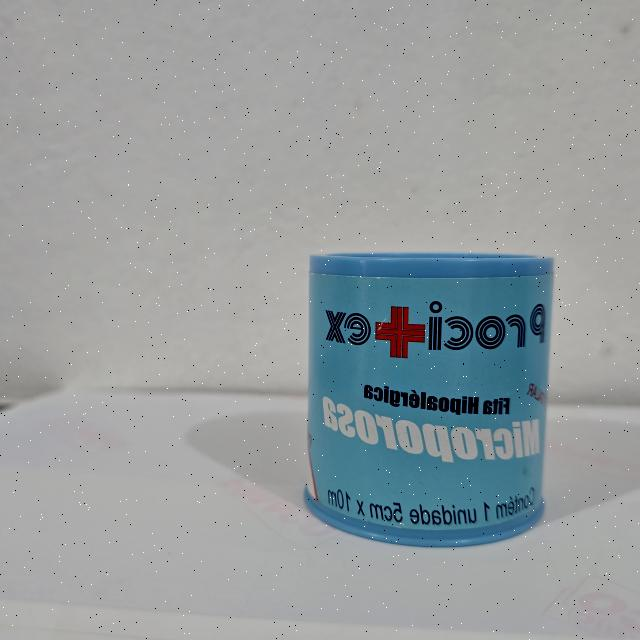procitex: (300, 247, 560, 553)
